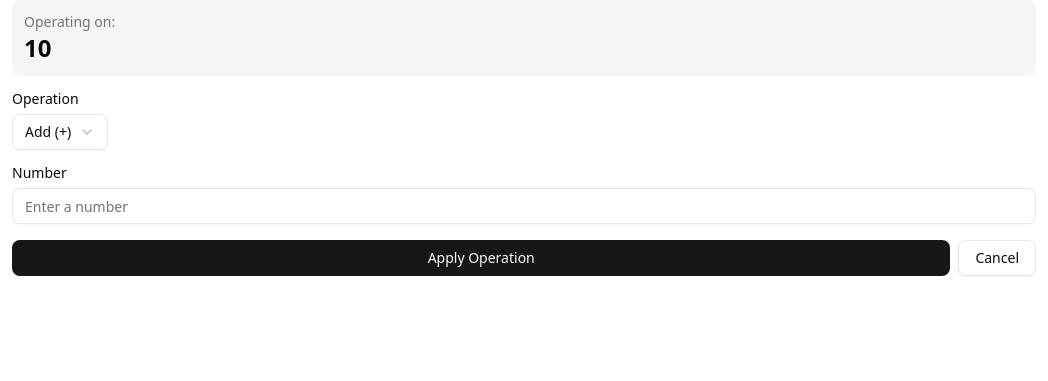
Test: OperationForm › should show calculation preview
The width and height of the screenshot is (1048, 381).
Type "5" into the number field labelled "Number" at [524, 206], box [12,188,1036,224]
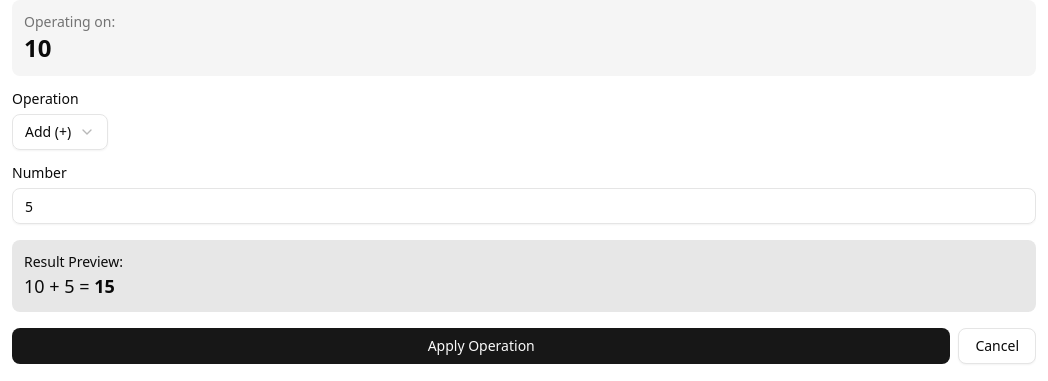
Expected: the text "Result Preview:" is shown, [24,252,123,271]
